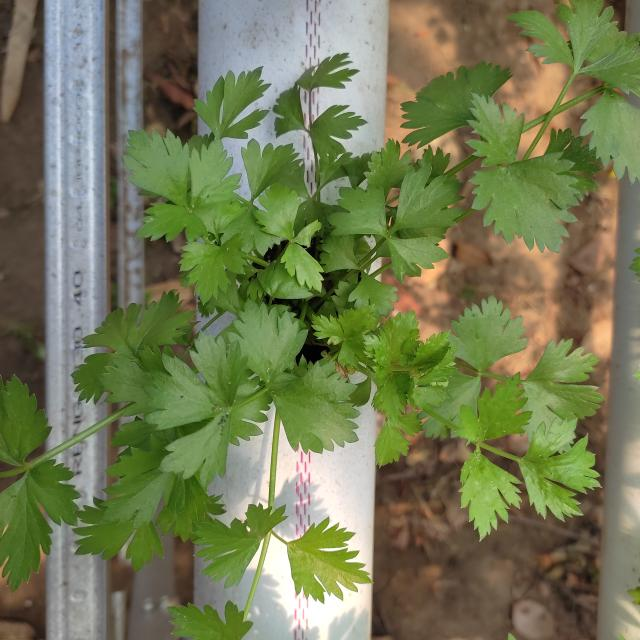Wet Waste: (68, 118, 623, 605)
